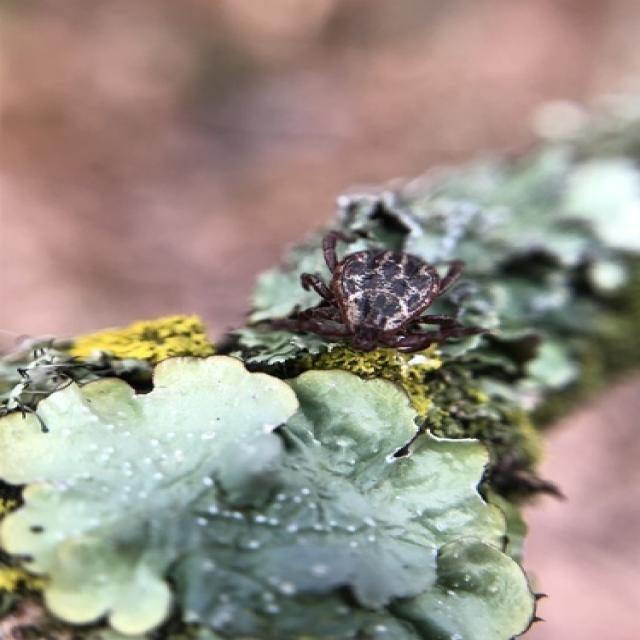Dermacentor Reticulatus-M: (261, 230, 492, 353)
